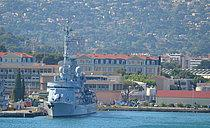MIL_Ship: (44, 53, 97, 117)
